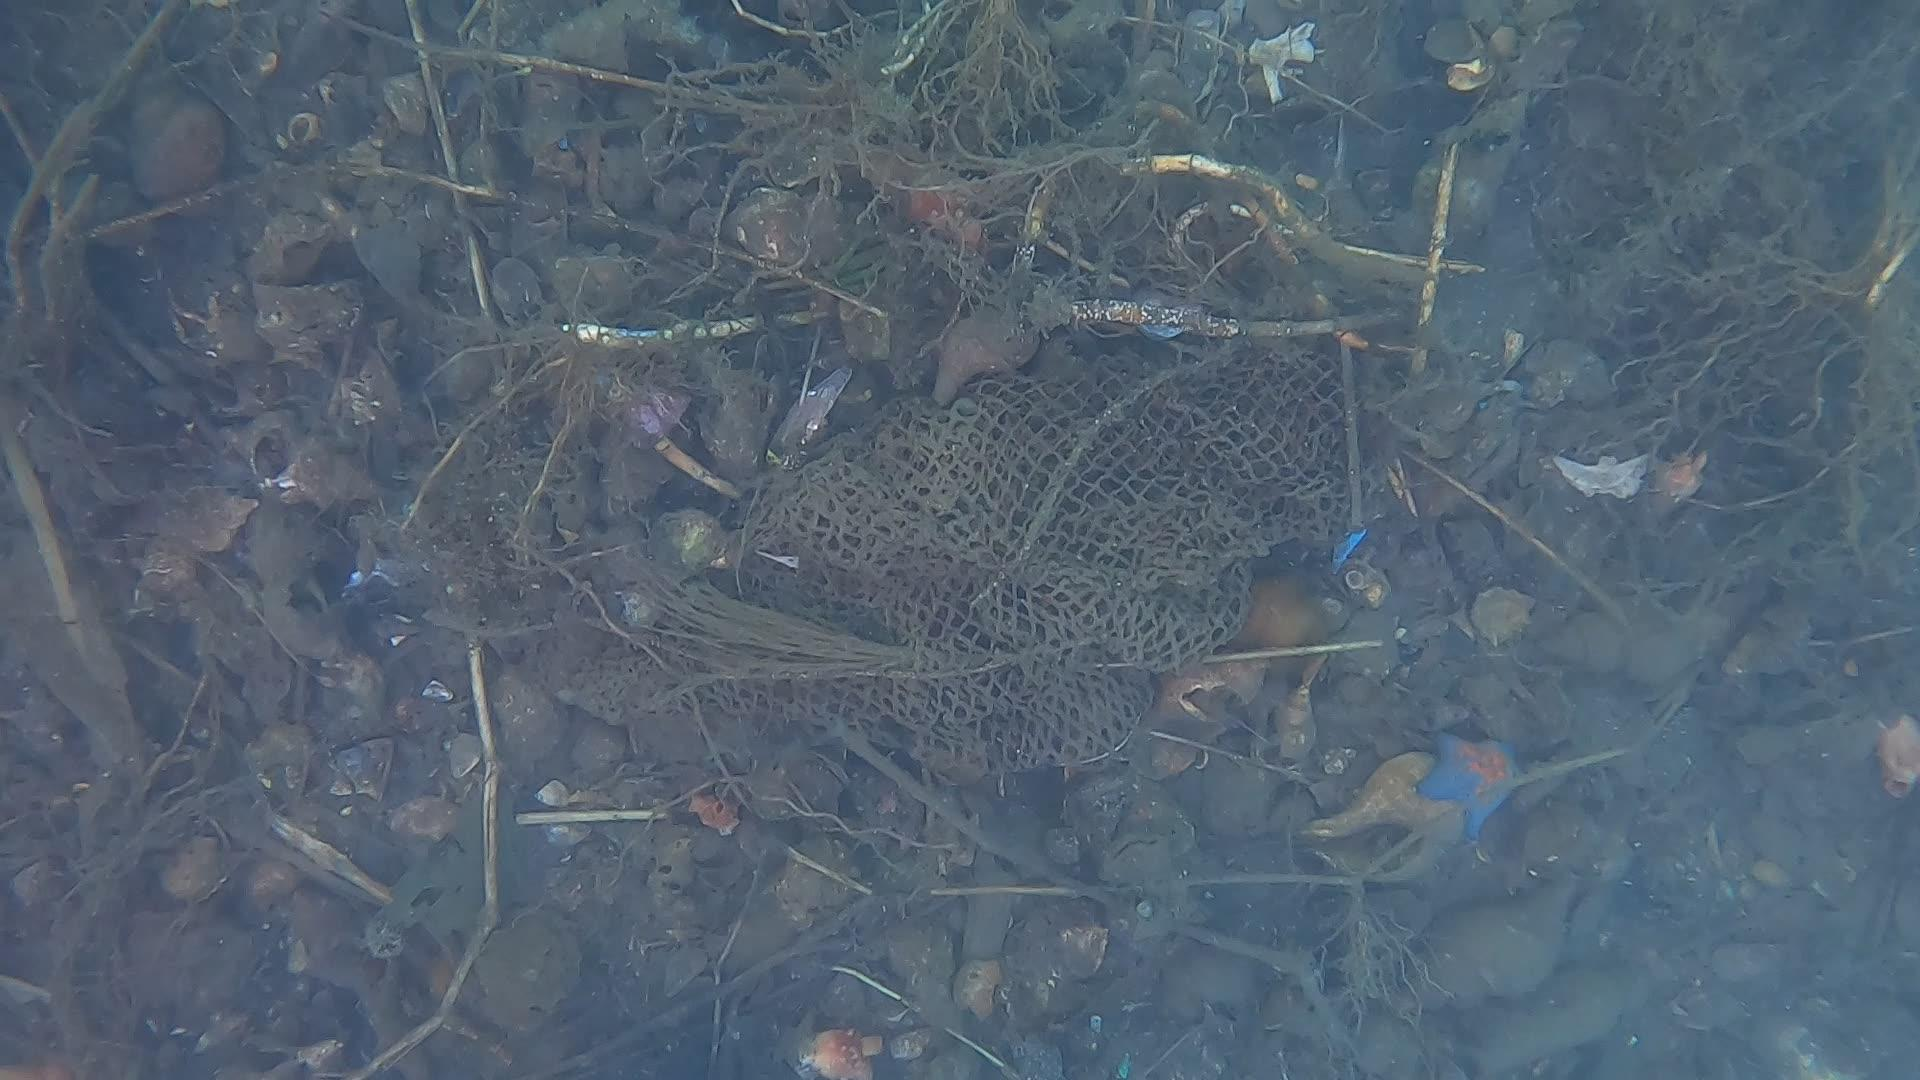fish net: (698, 352, 1356, 773)
